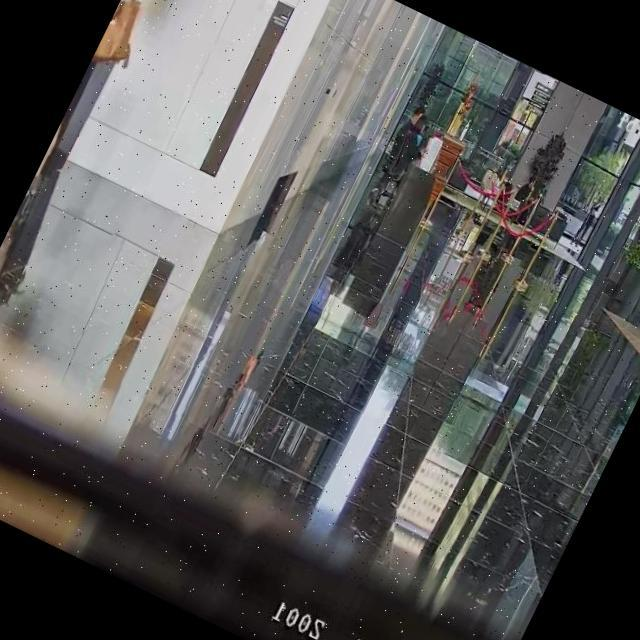person: (17, 0, 148, 214), (390, 111, 440, 180), (503, 171, 541, 227), (569, 192, 603, 248), (397, 103, 424, 140)
